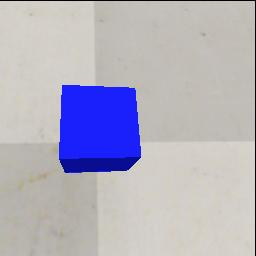box: (59, 85, 141, 173)
